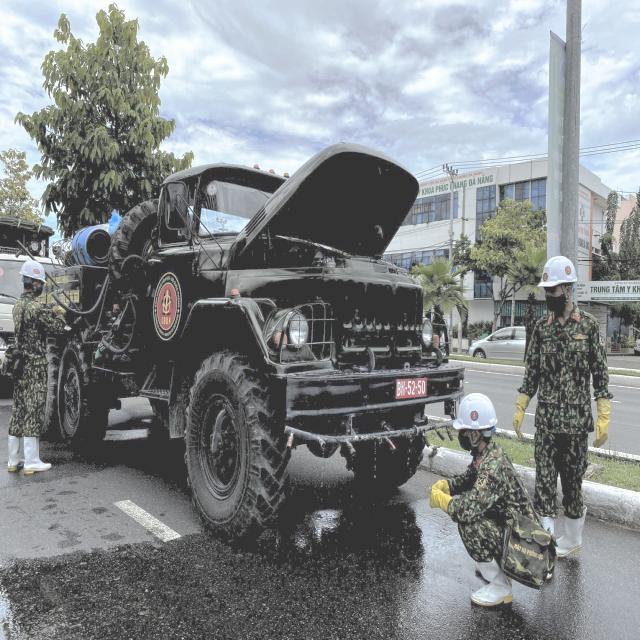license_plate: (398, 377, 429, 399)
